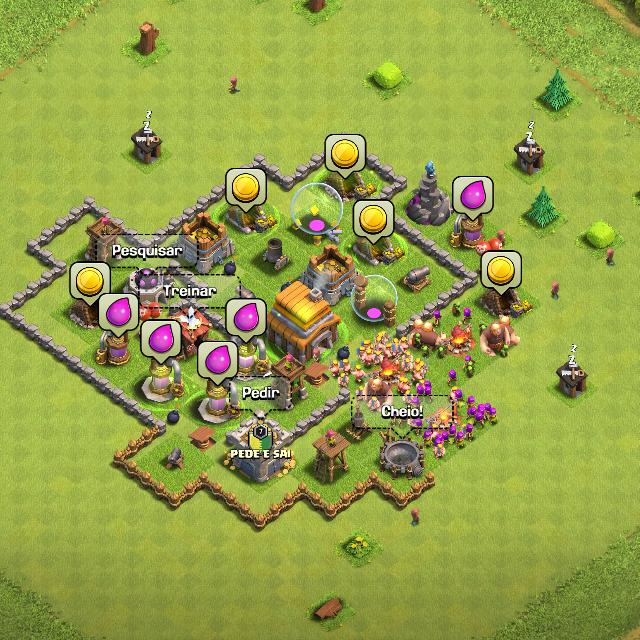Elixir: (454, 176, 494, 222), (199, 340, 238, 386), (226, 299, 266, 343), (141, 320, 181, 364), (100, 292, 138, 337)
coin: (481, 250, 522, 297), (226, 168, 267, 214), (353, 200, 394, 245), (325, 135, 366, 179), (72, 262, 109, 306)
